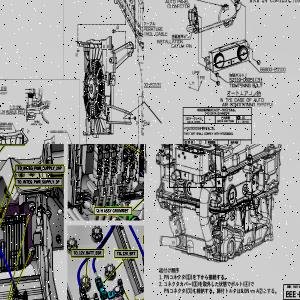PartNumber: (260, 66, 286, 72), (229, 77, 255, 83), (144, 81, 161, 87), (50, 130, 64, 133), (0, 127, 12, 130), (0, 125, 12, 127)
